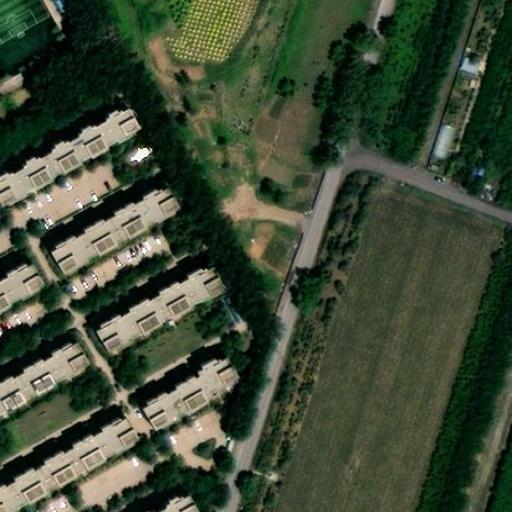building: (0, 121, 143, 223), (97, 266, 231, 362), (43, 173, 176, 268), (0, 423, 141, 512), (142, 363, 240, 440), (0, 340, 91, 415), (0, 265, 32, 304), (428, 116, 455, 157), (165, 493, 199, 511), (461, 67, 481, 85)
